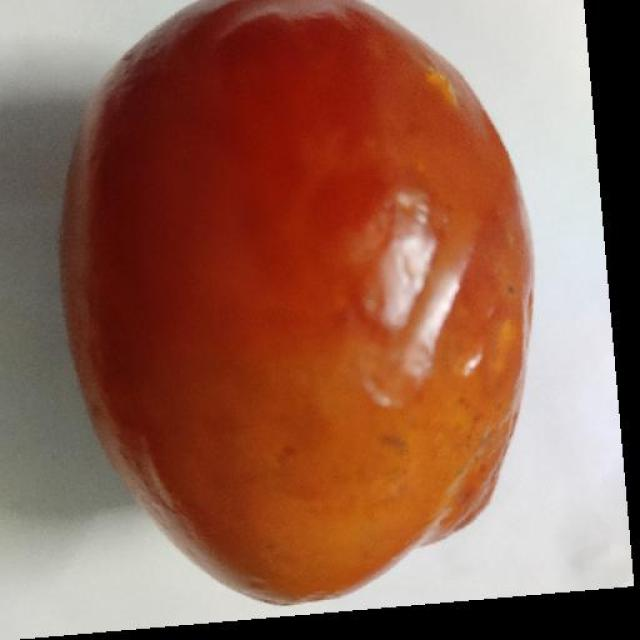Stale_tomato: (72, 9, 552, 612)
